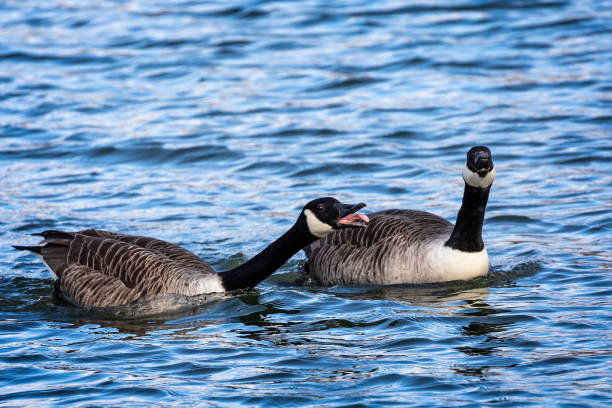goose: (8, 195, 372, 318), (293, 143, 498, 284)
